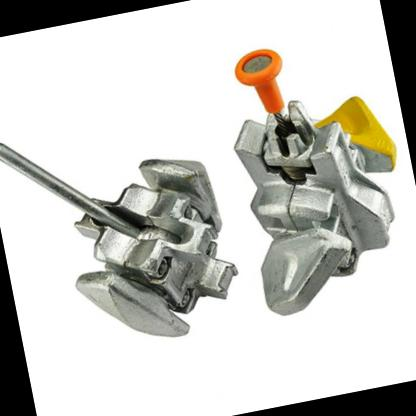Twistlock: (0, 98, 250, 372), (213, 22, 415, 322)
